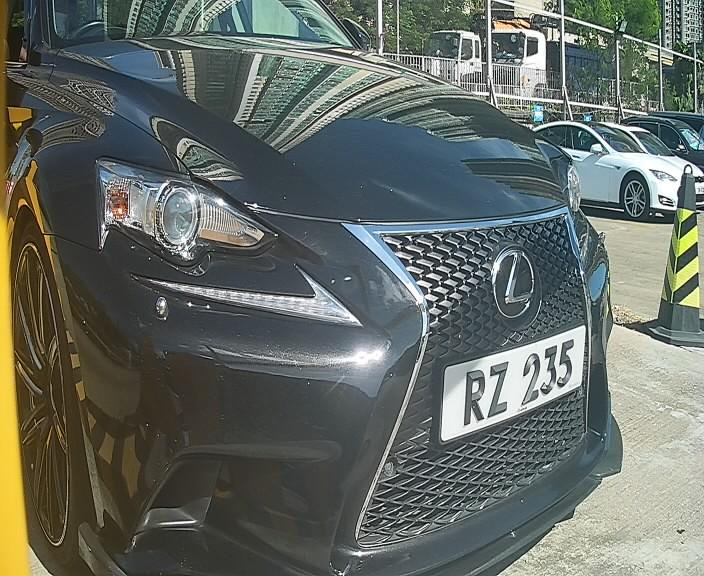Car: (23, 8, 654, 569)
License Plate: (437, 317, 588, 438)
